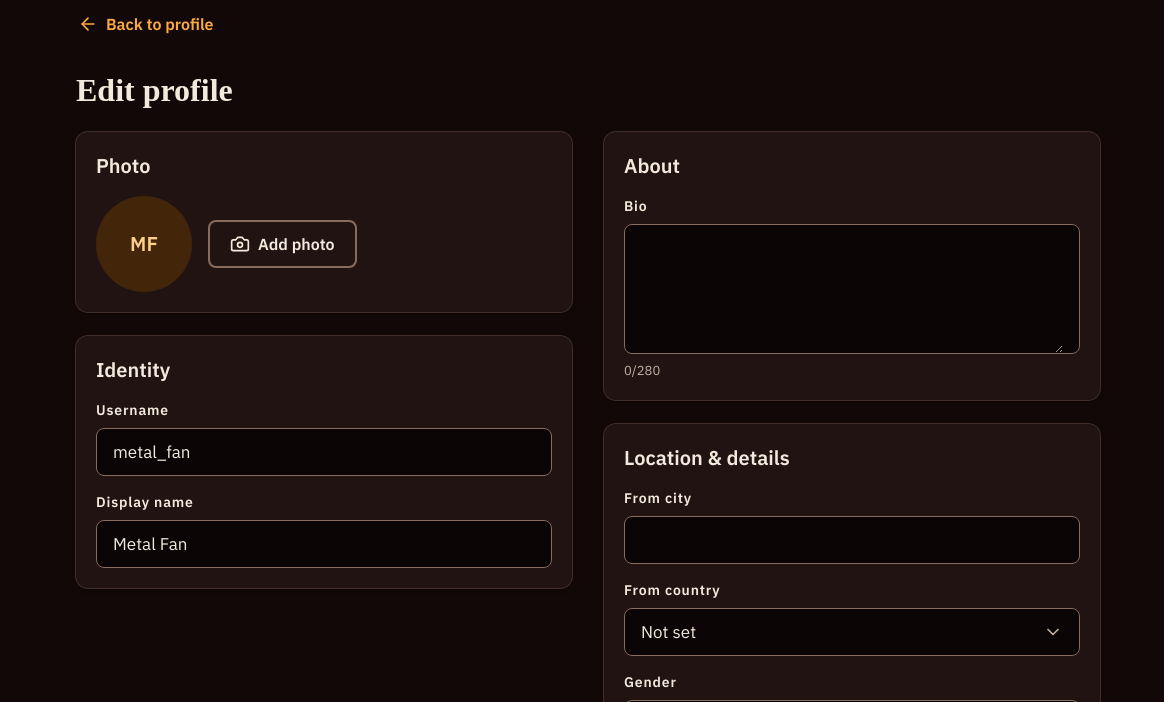
Test case: Back to profile with changes asks first; declining stays, accepting leaves without saving
In the field labelled "Display name": (324, 544) [113,531,535,557], type "x"
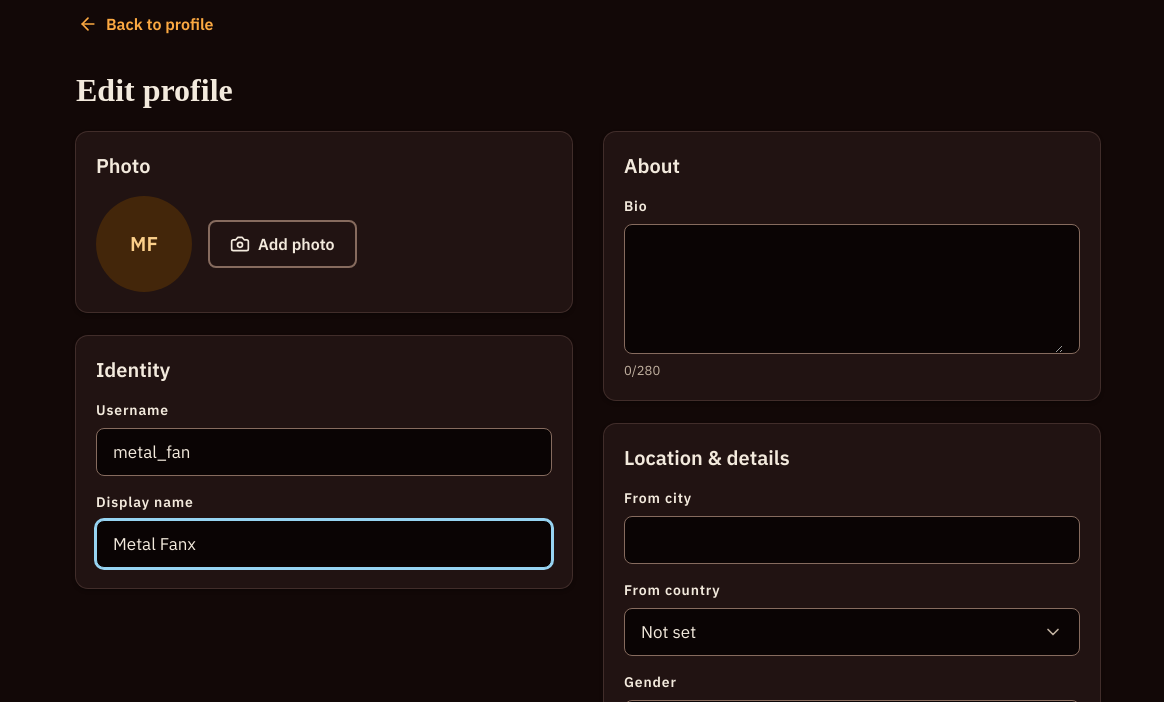
Click the link "Back to profile": (146, 24) [78,14,214,34]
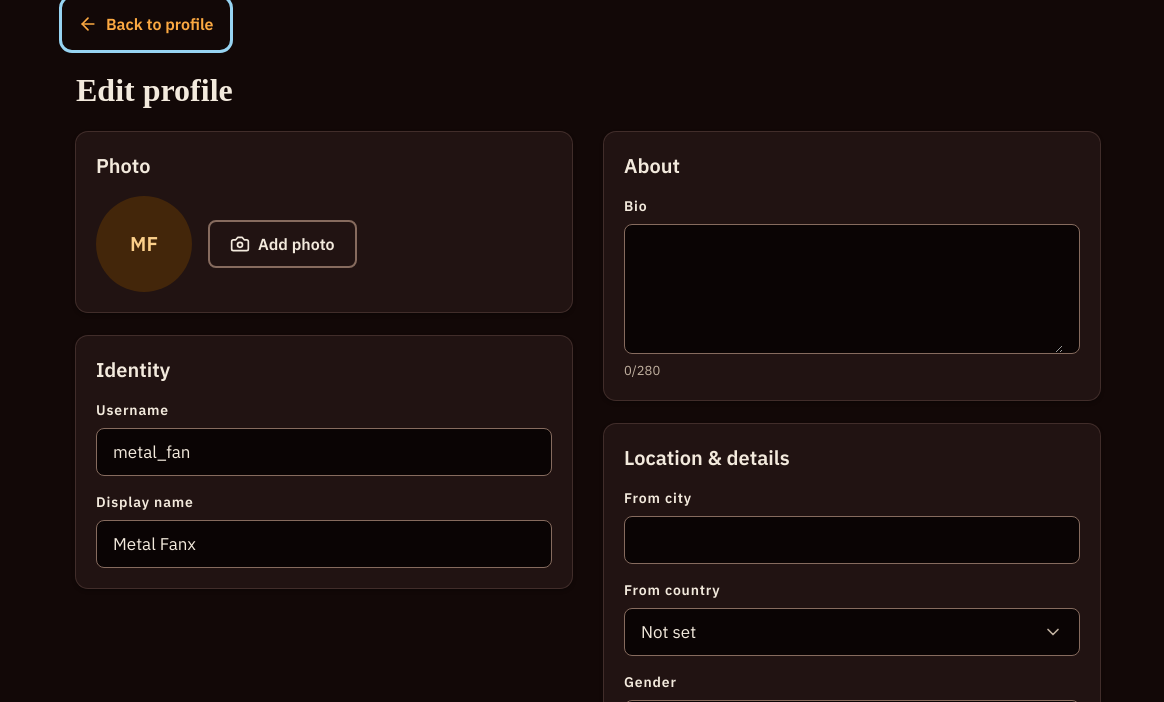
Result: the field labelled "Display name" holds "Metal Fanx" at [113,531,535,557]
Click the link "Back to profile": (146, 24) [78,14,214,34]
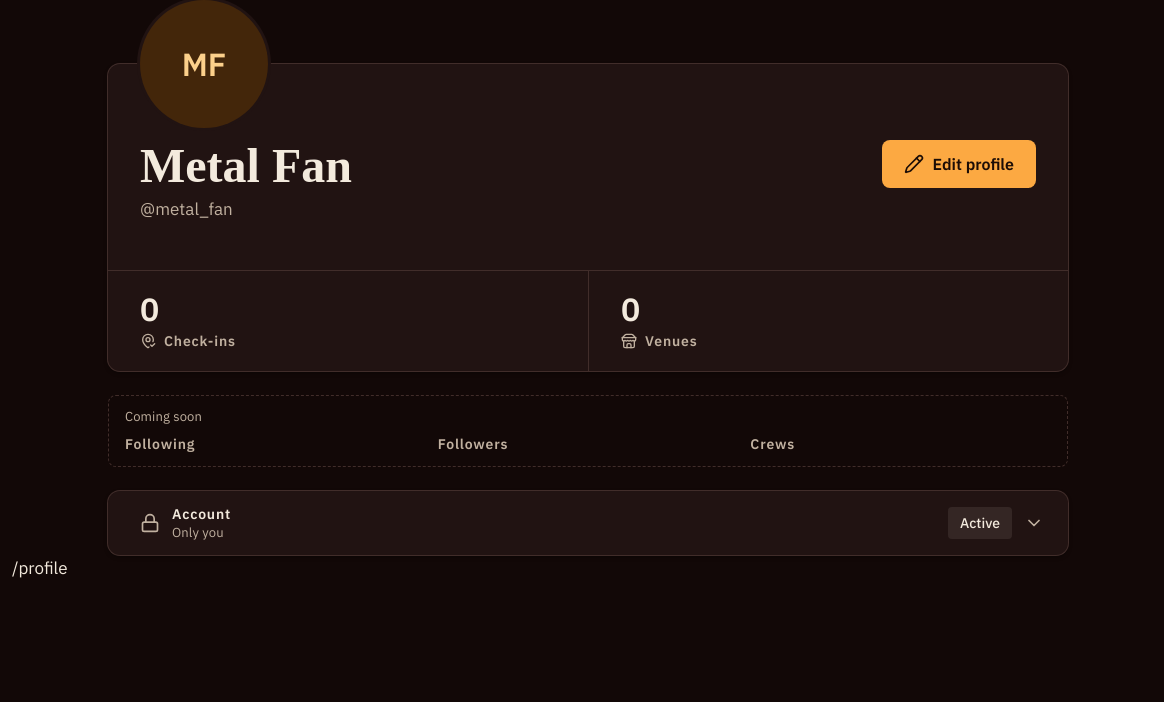
Result: the text with test id "loc" reads "/profile" at [12,557,68,579]
